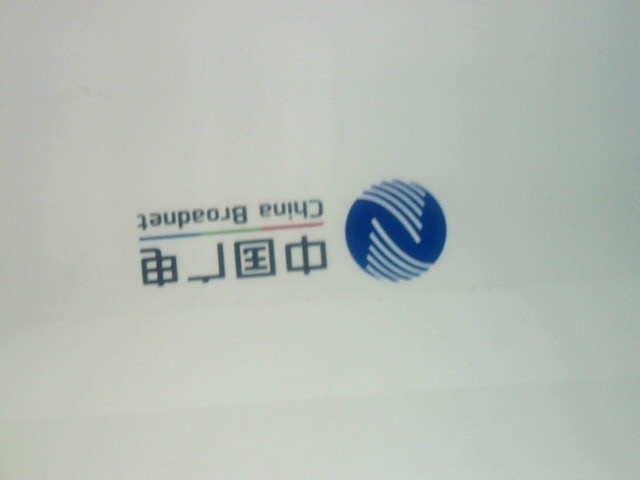AW_ChinaBroadNet: (108, 118, 454, 298)
